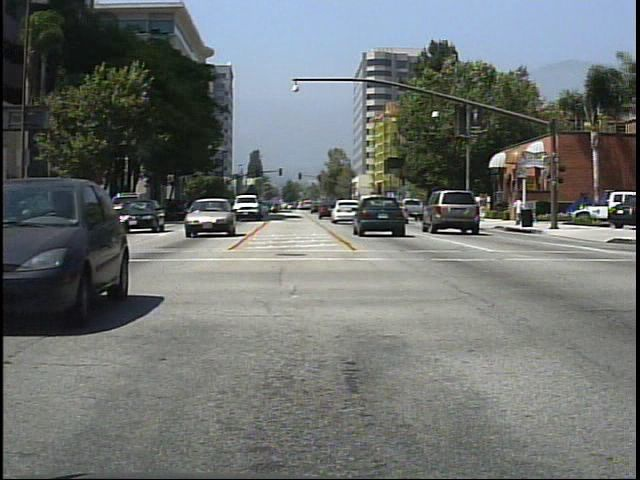person: (477, 190, 494, 225), (510, 195, 524, 229)
